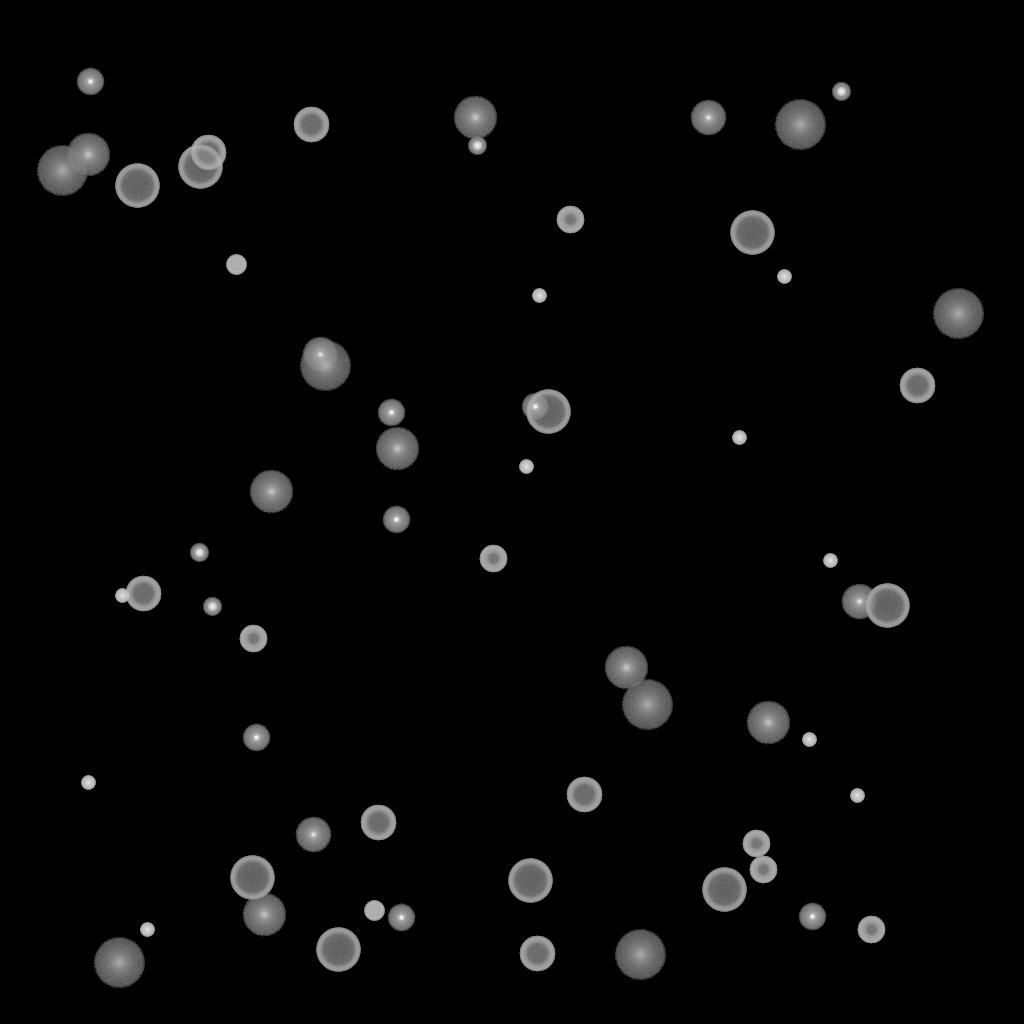depth:-10: (242, 724, 270, 752), (377, 399, 405, 427), (521, 393, 549, 421), (387, 904, 415, 932), (798, 903, 826, 931), (382, 506, 410, 534), (76, 68, 104, 96)
depth:-20: (190, 544, 208, 562), (203, 598, 221, 616), (468, 137, 486, 155), (832, 83, 850, 101)
depth:-30: (532, 289, 546, 303), (802, 733, 816, 747), (777, 270, 791, 284), (115, 589, 129, 603), (732, 431, 746, 445), (81, 776, 95, 790), (140, 923, 154, 937), (823, 554, 837, 568), (519, 460, 533, 474), (850, 789, 864, 803)
depth:-40: (364, 901, 384, 921), (226, 255, 246, 275)
depth:-50: (239, 625, 267, 653), (556, 206, 584, 234), (742, 830, 770, 858), (857, 916, 885, 944), (479, 545, 507, 573), (749, 856, 777, 884)
depth:-60: (519, 936, 555, 972), (566, 777, 602, 813), (125, 576, 161, 612), (293, 107, 329, 143), (360, 805, 396, 841), (190, 135, 226, 171), (899, 368, 935, 404)
depth:-70: (230, 856, 274, 900), (115, 164, 159, 208), (508, 859, 552, 903), (865, 584, 909, 628), (526, 390, 570, 434), (730, 211, 774, 255), (178, 145, 222, 189), (702, 868, 746, 912), (316, 928, 360, 972)
depth:0: (295, 817, 331, 853), (302, 337, 338, 373), (690, 100, 726, 136), (841, 584, 877, 620)
depth:10: (746, 701, 790, 745), (375, 427, 419, 471), (249, 470, 293, 514), (604, 646, 648, 690), (66, 133, 110, 177), (242, 893, 286, 937), (453, 96, 497, 140)
depth:20: (36, 146, 88, 196), (774, 100, 826, 150), (932, 289, 984, 339), (93, 938, 145, 988), (299, 341, 351, 391), (614, 930, 666, 980), (621, 680, 673, 730)
